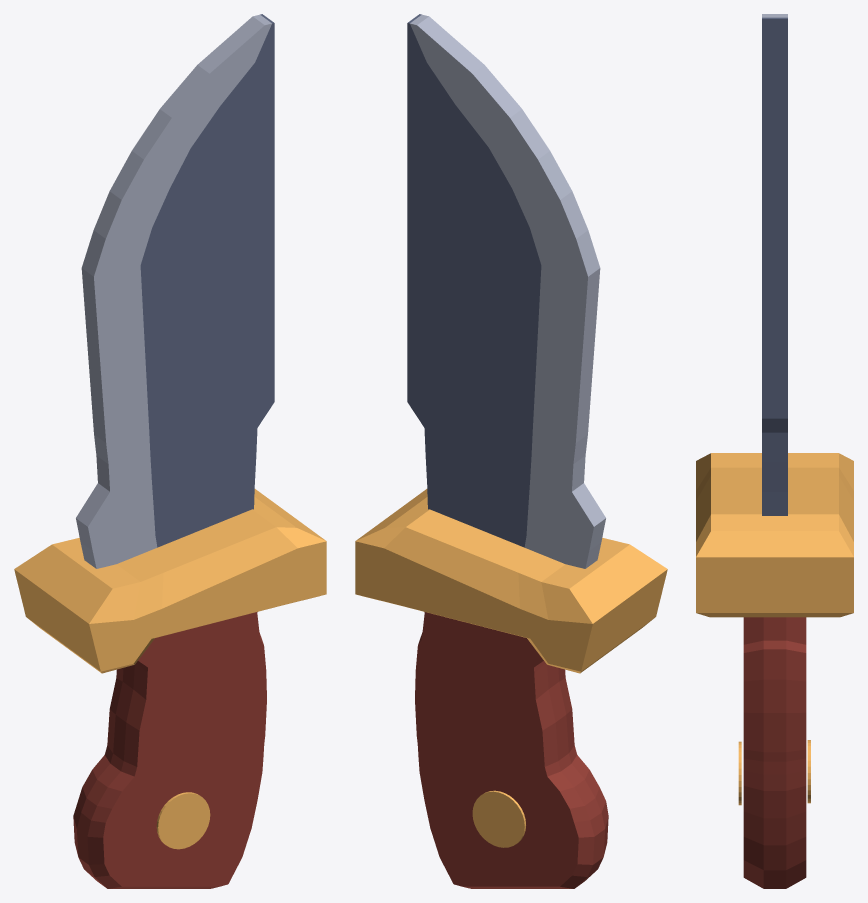
File: knife 02.fbx
3 views of the same model, side by side, from view 1: azimuth 30°, elevation 25°; view 2: azimuth 150°, elevation 25°; view 3: azimuth 270°, elevation 25° (orthographic). The views are drawn at different scales.
Visible parts, largest first — view 1: 刀手柄; view 2: 刀手柄; view 3: 刀手柄.
Boxes of the visible parts, x1,y1,x2,y2 form: 刀手柄: (14, 14, 326, 888); 刀手柄: (355, 14, 667, 888); 刀手柄: (696, 14, 853, 888).
Bounding box in the file's own units: 13.73 × 46.97 × 7.5.
